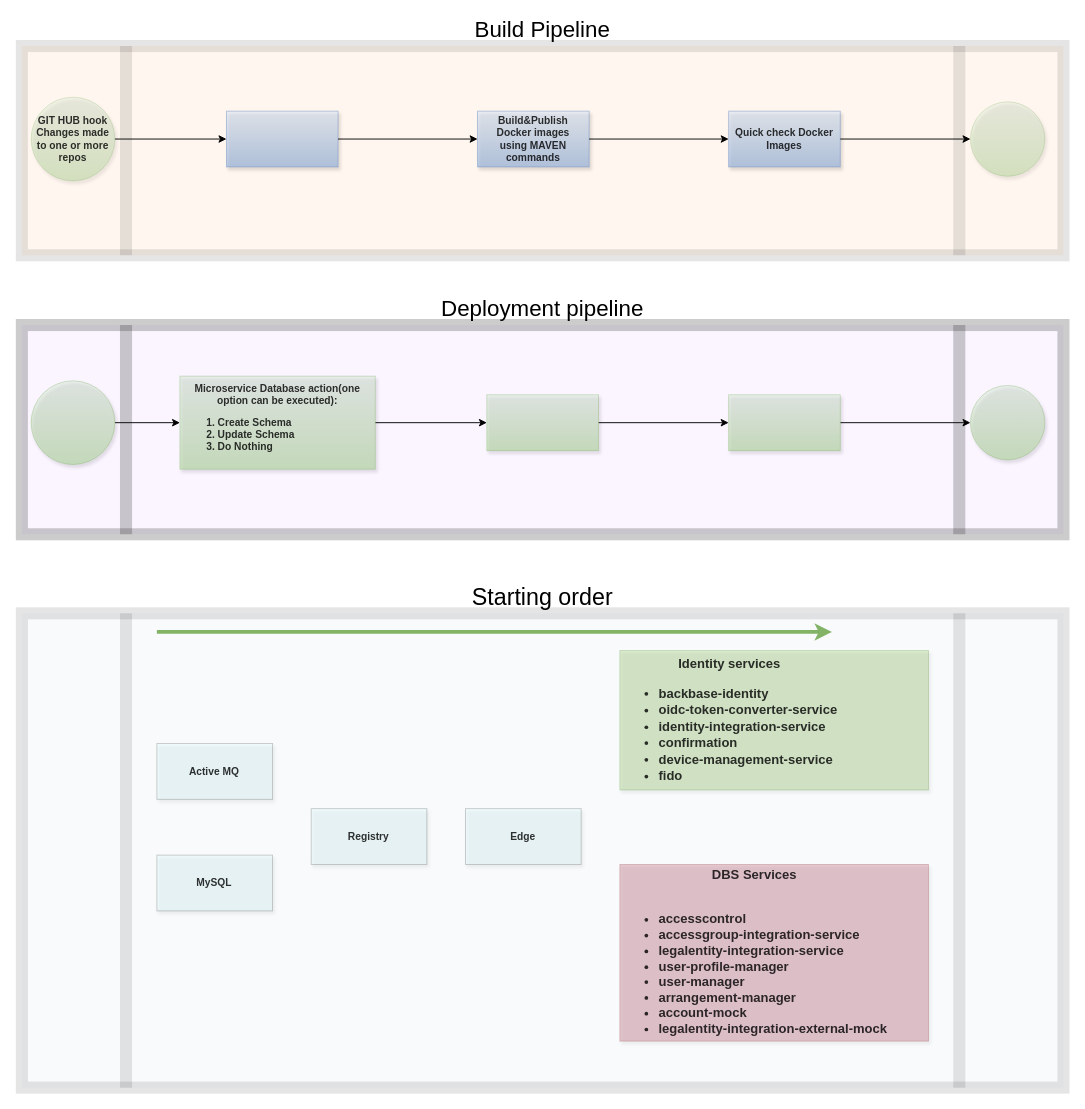
Image size: 1085x1109. Some labels were removed from this diagram. Each missing label, with the centre of its shape:
"Build Finished Event Listener" belongs at point 73,423.
"Checkout GIT HUB repository in Jenkins Workspace" belongs at point 283,139.
"Docker Image pull & start" belongs at point 543,423.
"Fire Event build finished" belongs at point 1008,140.
"Health check" belongs at point 785,423.
"Send Notification" belongs at point 1008,423.
